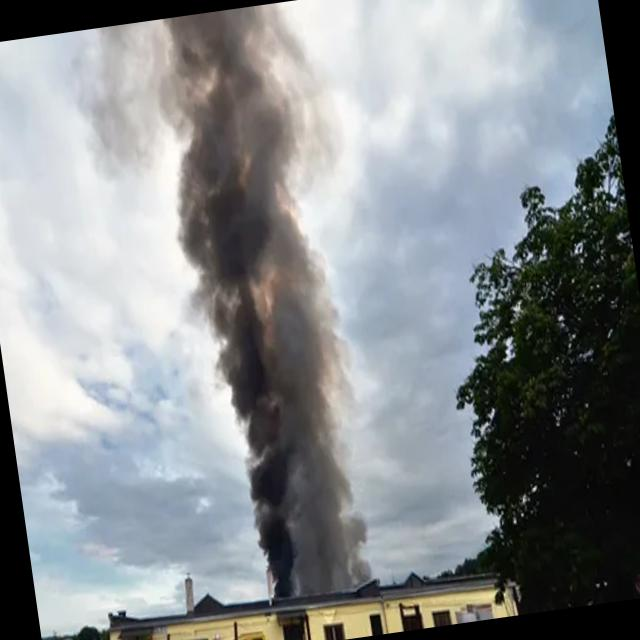Smoke: (140, 0, 380, 612)
